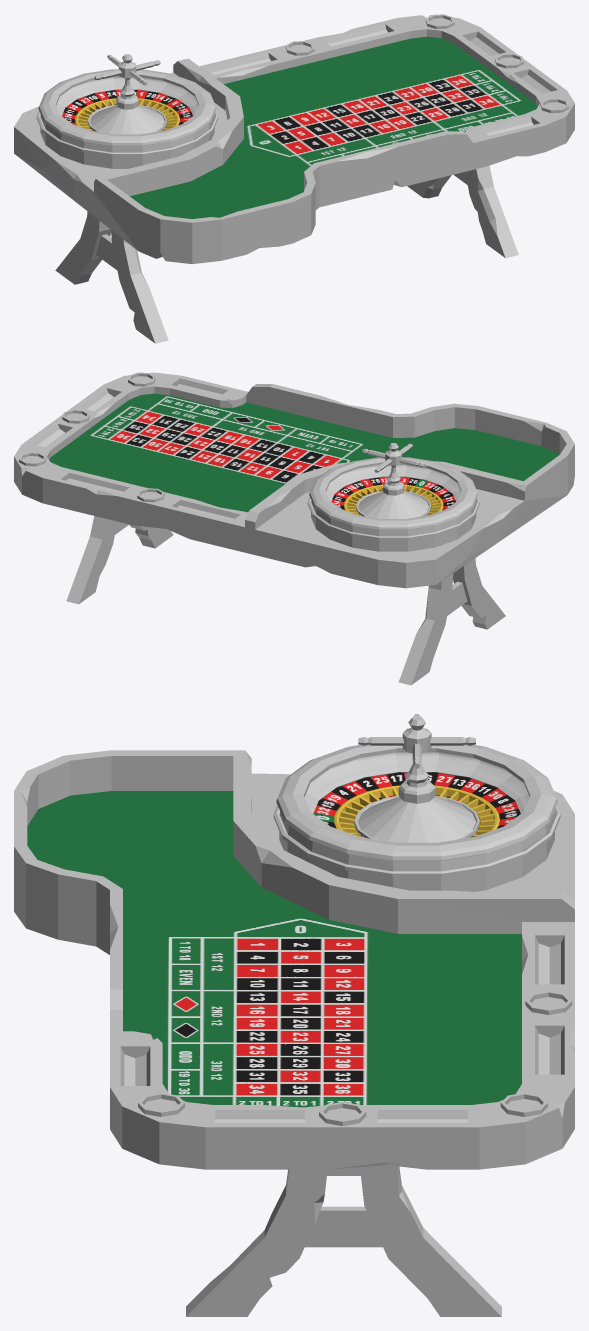
File: SM_Prop_Roulette_Table_01.fbx
3 renders of one model, top to bottom at view 1: azimuth 30°, elevation 25°; view 2: azimuth 150°, elevation 25°; view 3: azimuth 270°, elevation 25°, orthographic. The views are drawn at different scales.
Parts seen in each view (by area): view 1: SM_Prop_Roulette_Table_01; view 2: SM_Prop_Roulette_Table_01; view 3: SM_Prop_Roulette_Table_01.
Part boxes in pixels (x1=…): SM_Prop_Roulette_Table_01: x1=14, y1=14, x2=574, y2=343; SM_Prop_Roulette_Table_01: x1=14, y1=372, x2=574, y2=685; SM_Prop_Roulette_Table_01: x1=14, y1=714, x2=574, y2=1316.
Bounding box in the file's own units: 269 × 125 × 181.
